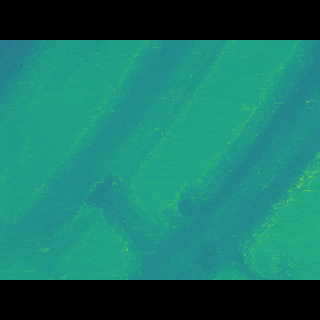Loch: (0, 69, 235, 246), (92, 70, 319, 252)
